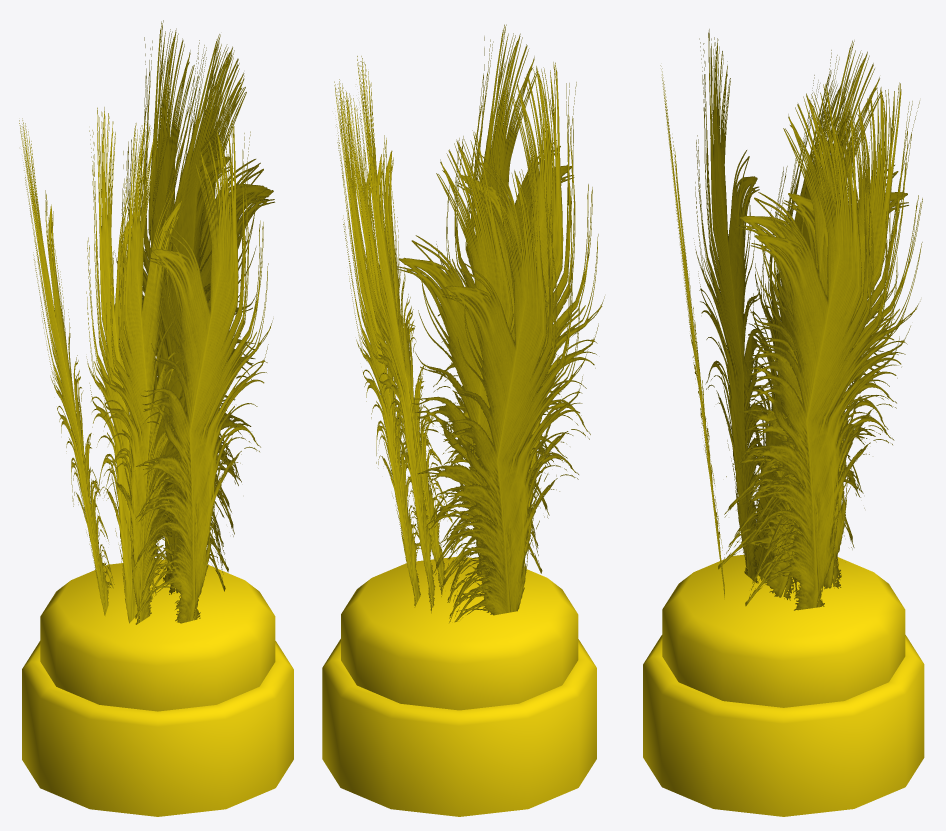
The model's file is peteca-amarela.FBX.
The picture shows the model from 3 angles, left to right: view 1: azimuth 30°, elevation 25°; view 2: azimuth 150°, elevation 25°; view 3: azimuth 270°, elevation 25°; orthographic projection. The views are drawn at different scales.
Parts seen in each view (by area): view 1: peteca; view 2: peteca; view 3: peteca.
Part boxes in pixels (<box>): peteca: <box>19,20,293,816</box>; peteca: <box>322,24,604,816</box>; peteca: <box>643,29,924,816</box>.
Bounding box in the file's own units: 66.93 × 67.44 × 186.
